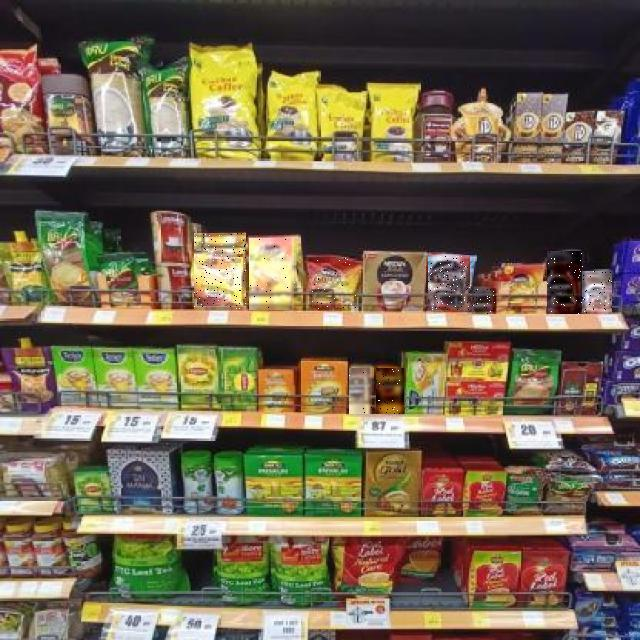Coffee: (194, 234, 246, 310), (250, 238, 296, 310), (309, 257, 357, 309), (428, 255, 470, 310), (548, 251, 584, 314), (376, 368, 404, 414), (583, 272, 612, 314), (350, 368, 374, 414), (472, 288, 496, 314)
